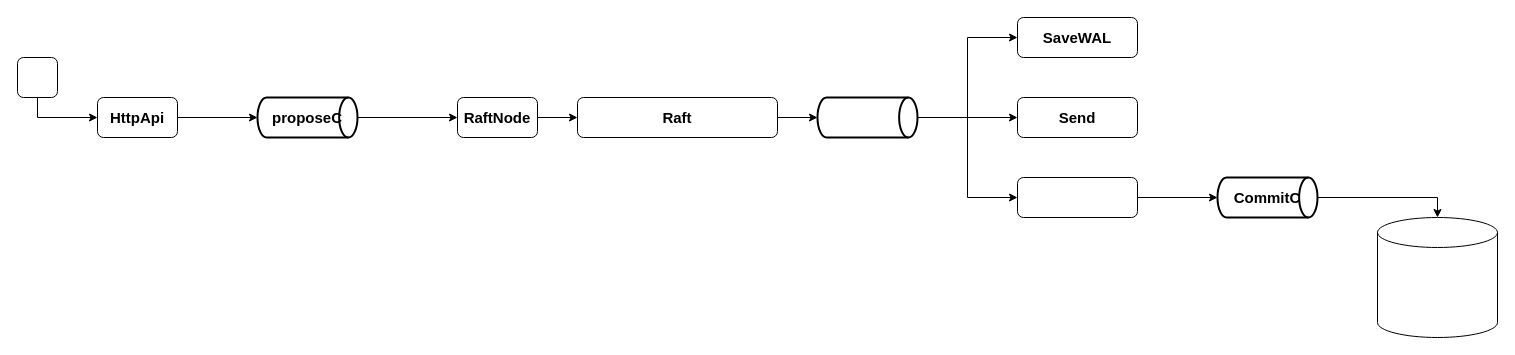
Image size: 1515x355. Some labels were removed from this diagram. The shapes that lost their labels are listed below. From the top down, each one's centre as x and y in pixels, then its label:
point (37, 77): PUT
point (867, 117): Ready
point (1077, 197): PublishEntries
point (1437, 277): KVStore
